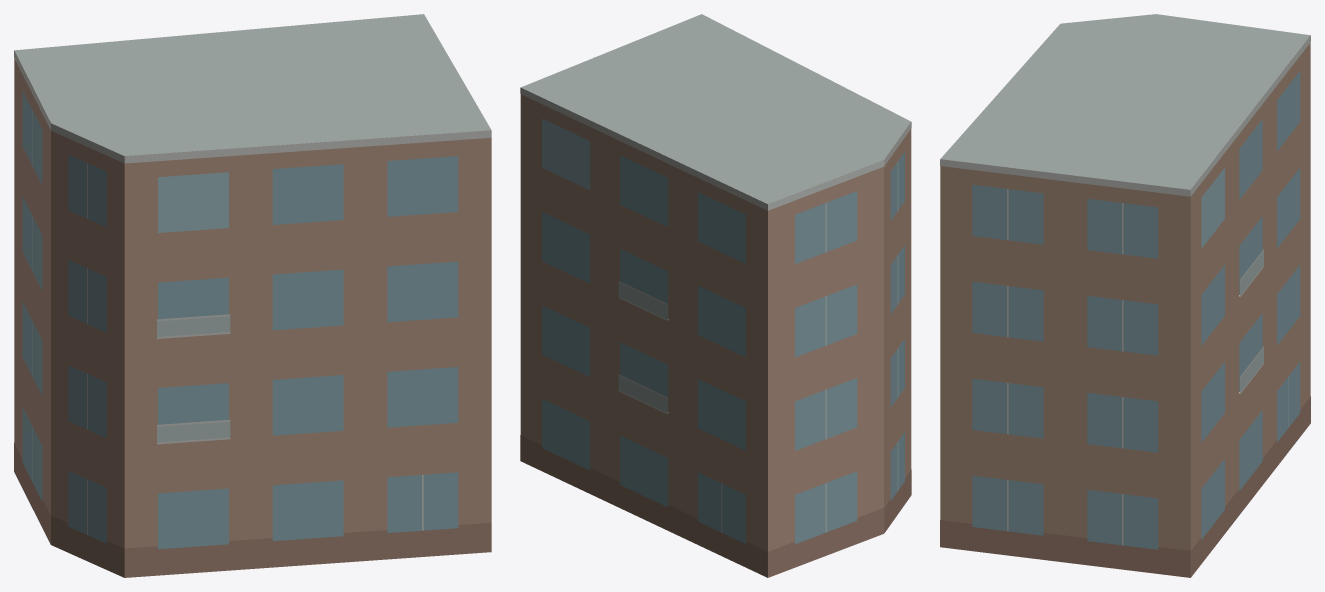
The model's file is survey-upis-32485626.glb.
3 renders of one model, left to right at view 1: azimuth 30°, elevation 25°; view 2: azimuth 150°, elevation 25°; view 3: azimuth 270°, elevation 25°, orthographic. The views are drawn at different scales.
Parts seen in each view (by area): view 1: survey-upis-32485626.tmp; view 2: survey-upis-32485626.tmp; view 3: survey-upis-32485626.tmp.
Boxes of the visible parts, x1,y1,x2,y2 form: survey-upis-32485626.tmp: [14, 14, 491, 577]; survey-upis-32485626.tmp: [520, 14, 911, 577]; survey-upis-32485626.tmp: [940, 14, 1310, 577].
Size of the model in its own units: 13.54 by 13.91 by 12.06.
